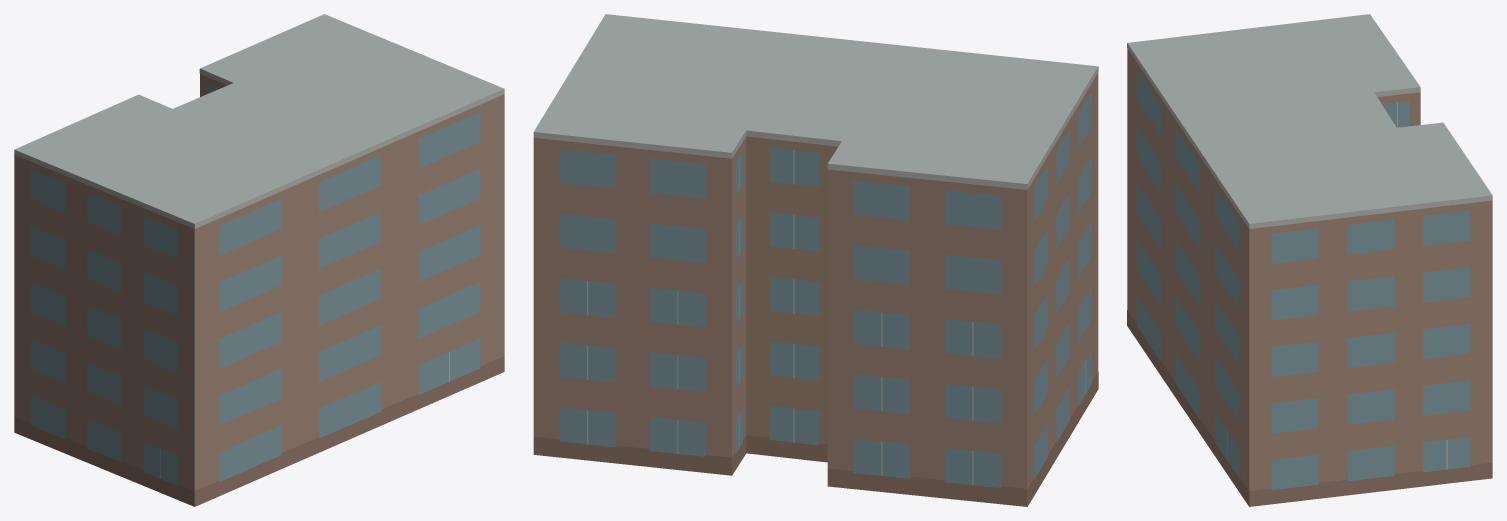
The model's file is survey-upis-32666273.glb.
3 views of the same model, side by side, from view 1: azimuth 30°, elevation 25°; view 2: azimuth 150°, elevation 25°; view 3: azimuth 270°, elevation 25° (orthographic). The views are drawn at different scales.
Visible parts, largest first — view 1: survey-upis-32666273.tmp; view 2: survey-upis-32666273.tmp; view 3: survey-upis-32666273.tmp.
Part boxes in pixels (left/top/right/bottom): survey-upis-32666273.tmp: left=14, top=14, right=504, bottom=506; survey-upis-32666273.tmp: left=533, top=14, right=1098, bottom=506; survey-upis-32666273.tmp: left=1127, top=14, right=1492, bottom=506.
Bounding box in the file's own units: 21.49 × 13.5 × 15.81.
